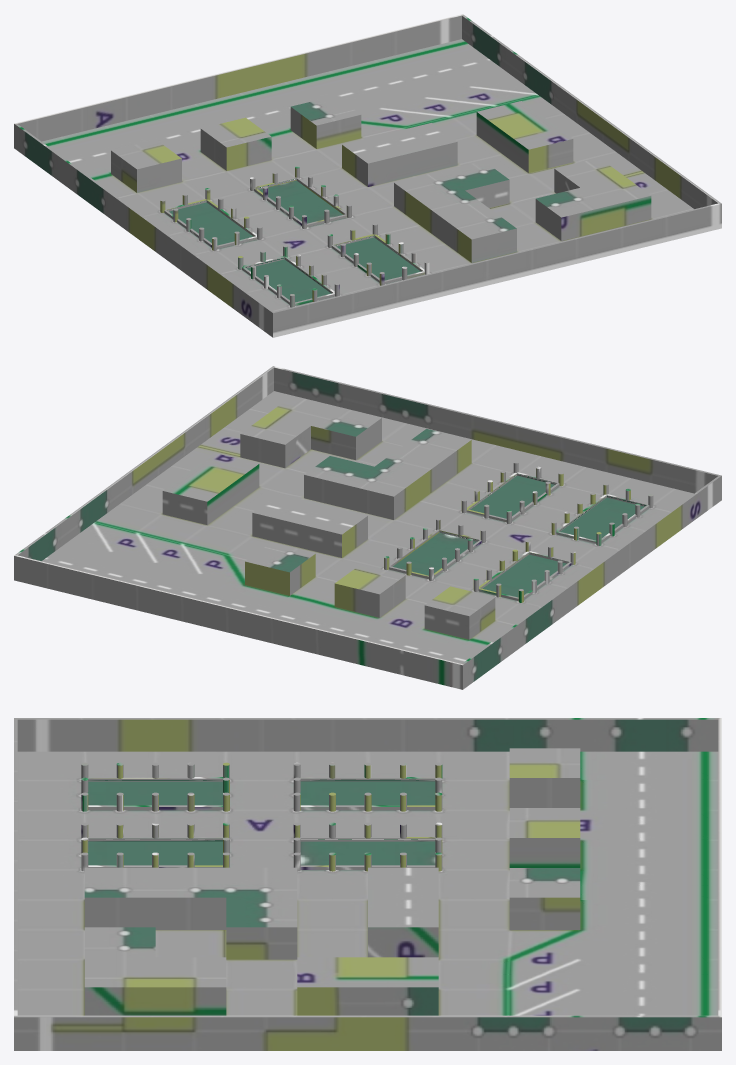
The model's file is polygun.dae.
3 views of the same model, one above another, from view 1: azimuth 30°, elevation 25°; view 2: azimuth 150°, elevation 25°; view 3: azimuth 270°, elevation 25° (orthographic). The views are drawn at different scales.
Parts seen in each view (by area): view 1: Polygun; view 2: Polygun; view 3: Polygun.
Boxes of the visible parts, <box> form: Polygun: <box>14,14,721,337</box>; Polygun: <box>14,366,721,689</box>; Polygun: <box>14,718,721,1050</box>.
Size of the model in its own units: 20 by 20 by 1.05.
Materials: 1 (1 with a texture image).
